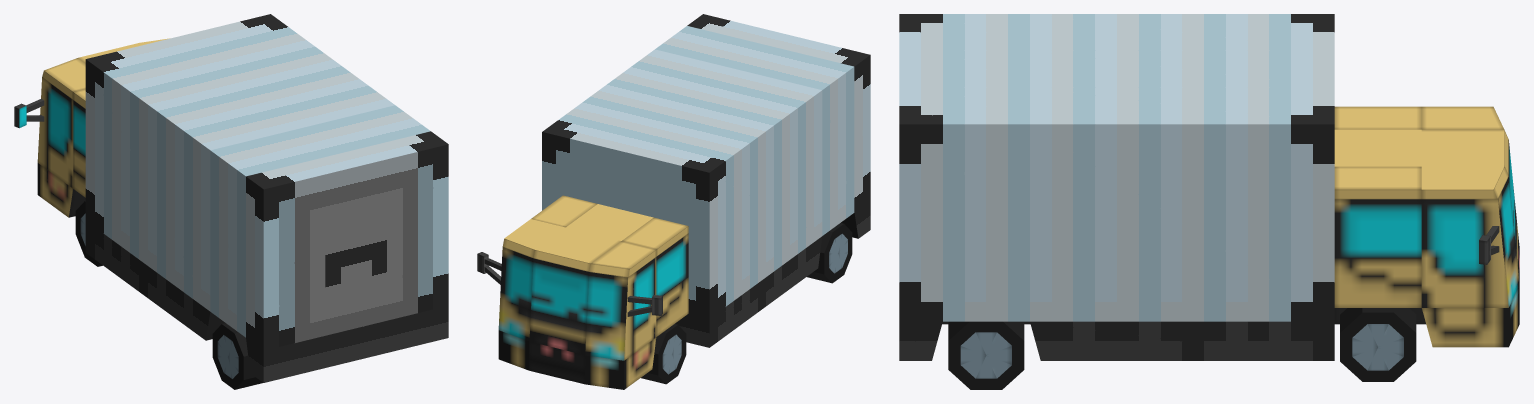
Rendered from Truck.fbx.
3 renders of one model, left to right at view 1: azimuth 30°, elevation 25°; view 2: azimuth 150°, elevation 25°; view 3: azimuth 270°, elevation 25°, orthographic. The views are drawn at different scales.
Visible parts, largest first — view 1: Box, cube_3, roda, roda_3; view 2: Box, cube_3, roda, roda_3; view 3: Box, cube_3, roda_2, roda_1.
Boxes of the visible parts, x1,y1,x2,y2 form: Box: (85, 14, 448, 382); cube_3: (37, 38, 169, 217); roda: (212, 323, 262, 389); roda_3: (75, 201, 102, 266); Box: (542, 14, 870, 347); cube_3: (498, 195, 688, 389); roda: (807, 223, 852, 283); roda_3: (641, 324, 686, 384); Box: (899, 14, 1334, 360); cube_3: (1334, 106, 1519, 347); roda_2: (1340, 308, 1416, 381); roda_1: (948, 321, 1024, 389).
Bounding box in the file's own units: 676 × 705 × 1461.
Materials: 2 (2 with a texture image).
